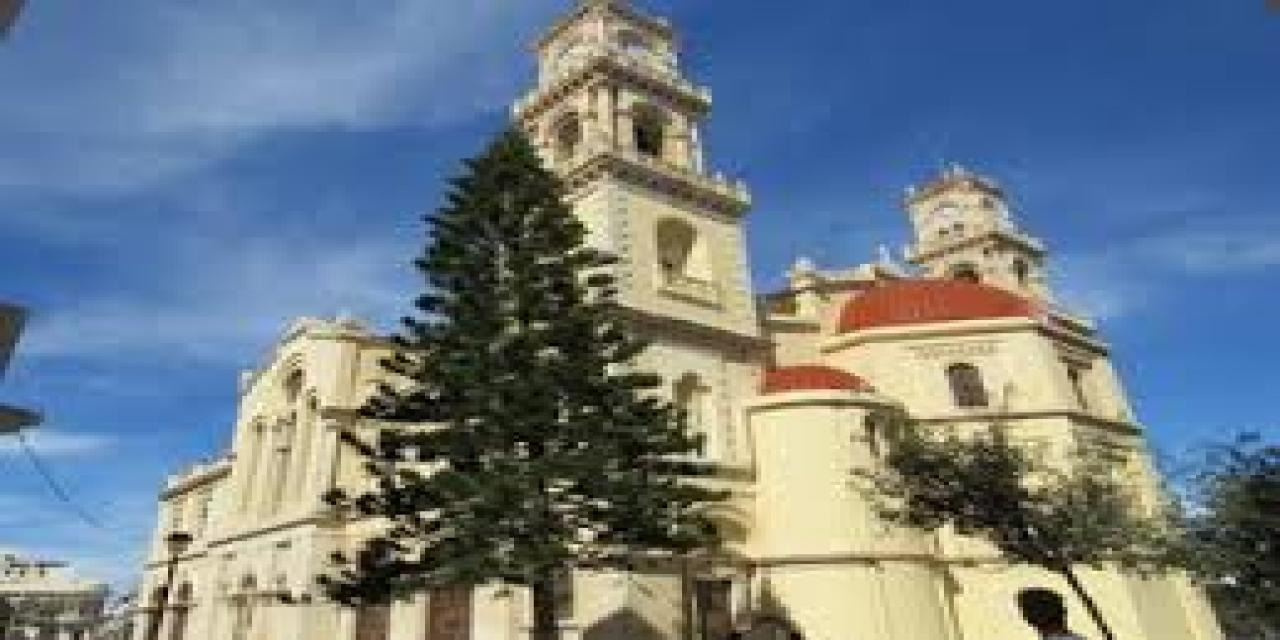Agios Minas: (138, 10, 1231, 640)
